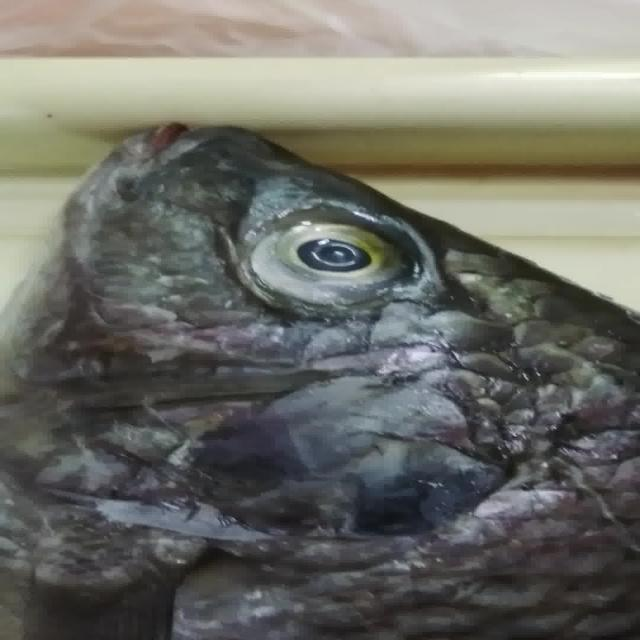Non-Fresh: (253, 200, 434, 328)
